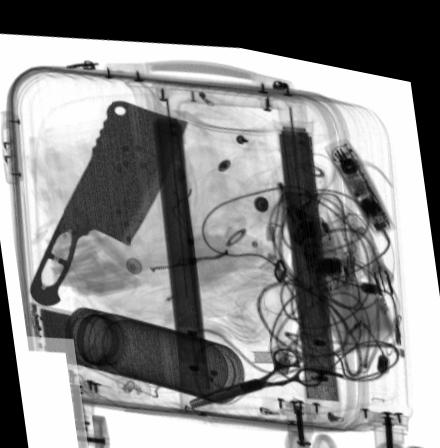Knife: (29, 95, 191, 303)
Powerbank: (25, 295, 119, 369)
Scissors: (188, 336, 344, 403)
